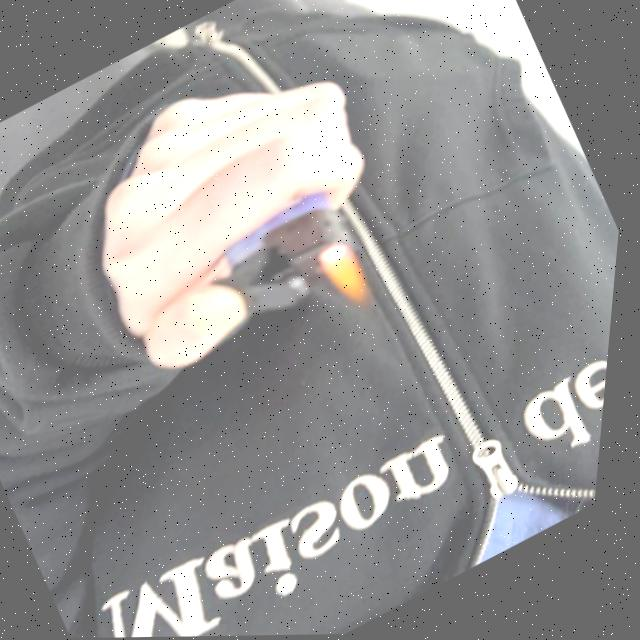Fire: (316, 236, 385, 317)
